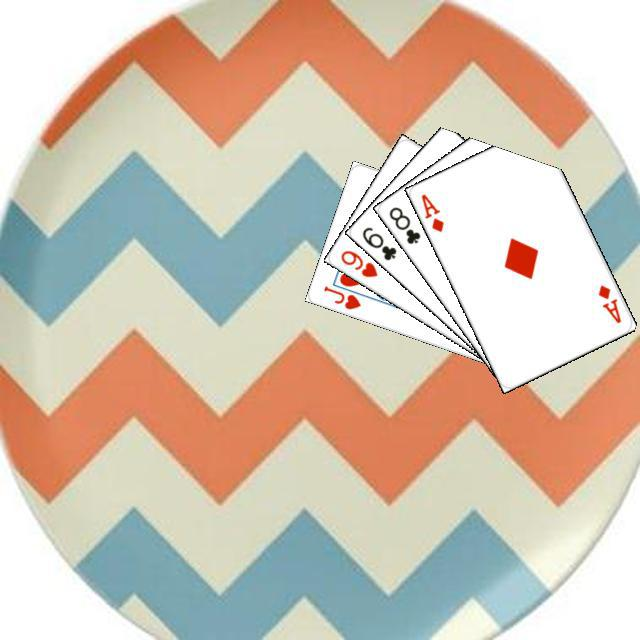6c: (357, 222, 398, 262)
8c: (384, 202, 422, 246)
9h: (335, 245, 380, 279)
Ad: (416, 189, 446, 234), (593, 280, 623, 325)
Jh: (318, 281, 363, 311)
